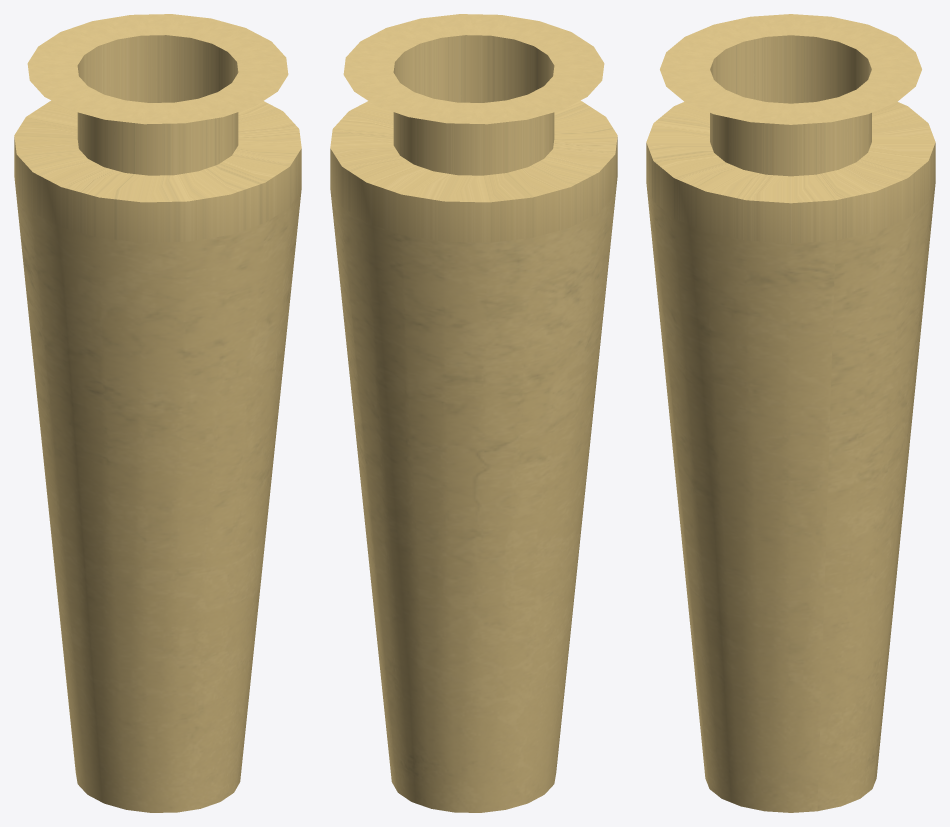
File: flask.fbx
3 views of the same model, side by side, from view 1: azimuth 30°, elevation 25°; view 2: azimuth 150°, elevation 25°; view 3: azimuth 270°, elevation 25° (orthographic).
Parts seen in each view (by area): view 1: pCylinder2; view 2: pCylinder2; view 3: pCylinder2.
Part boxes in pixels (<box>): pCylinder2: <box>14,14,301,812</box>; pCylinder2: <box>330,14,617,812</box>; pCylinder2: <box>646,14,935,812</box>.
Bounding box in the file's own units: 1.13 × 3.07 × 1.13.
Materials: 1 (1 with a texture image).
